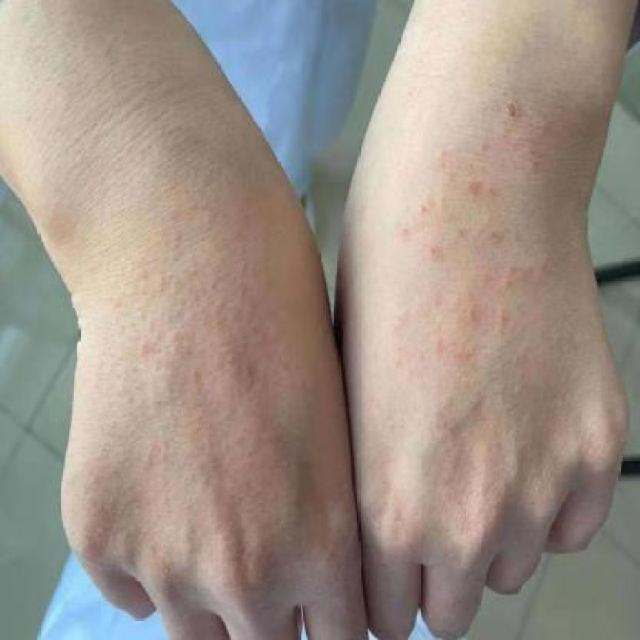hand_noglove: (330, 219, 632, 623), (59, 267, 367, 628)
